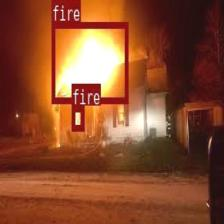fire: (51, 22, 127, 102), (71, 105, 83, 130)
